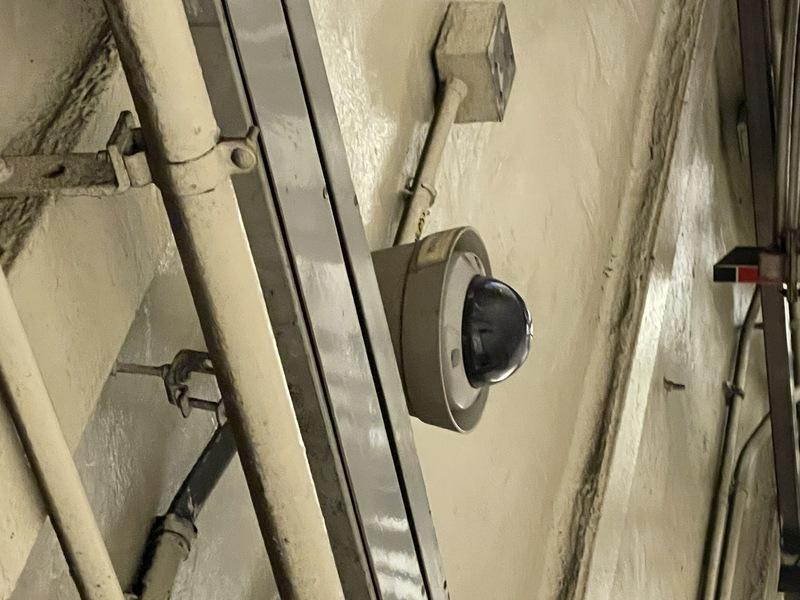dome: (183, 440, 353, 535)
